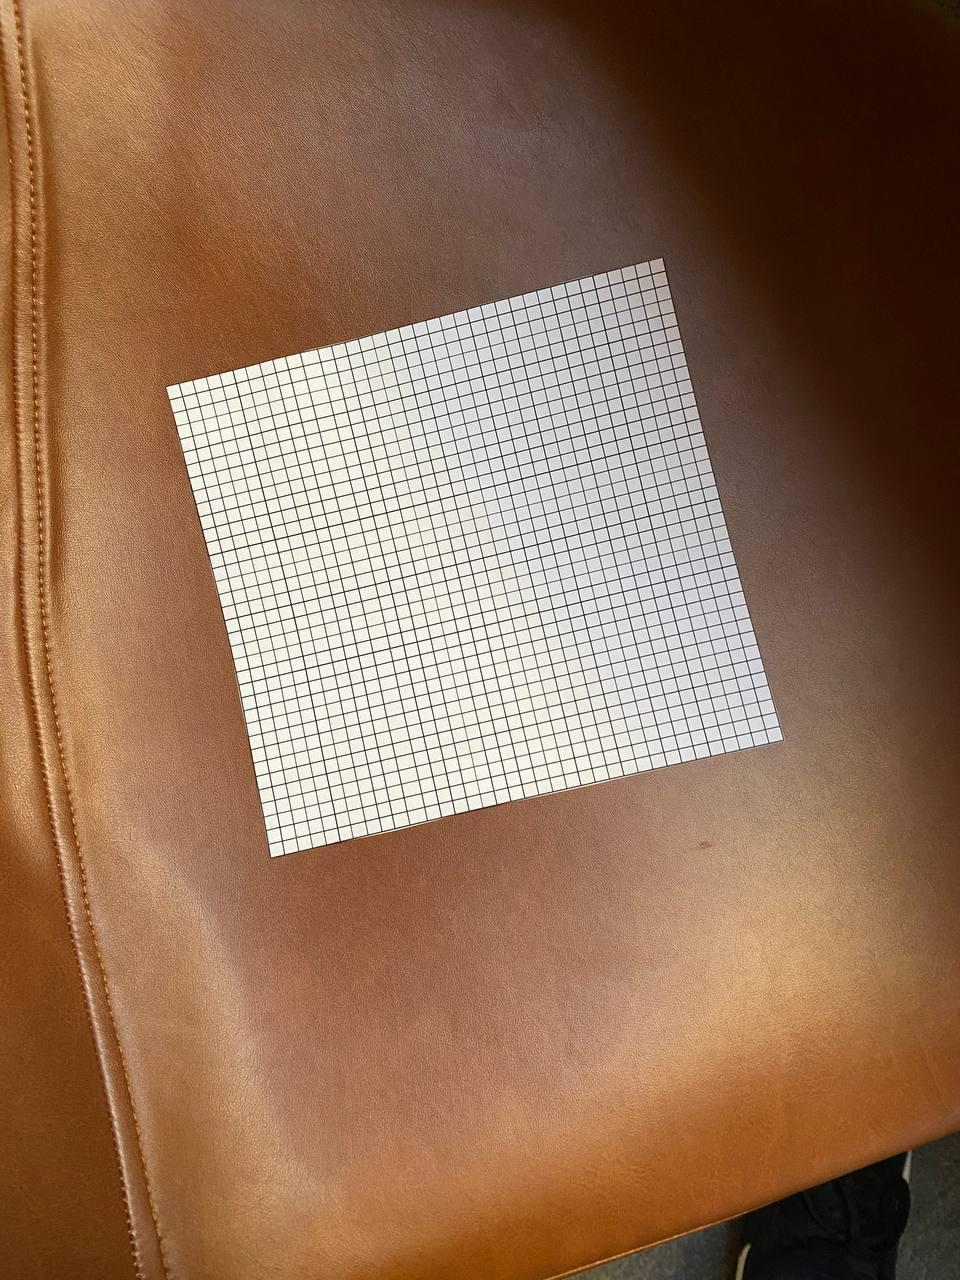grid: (159, 248, 790, 868)
